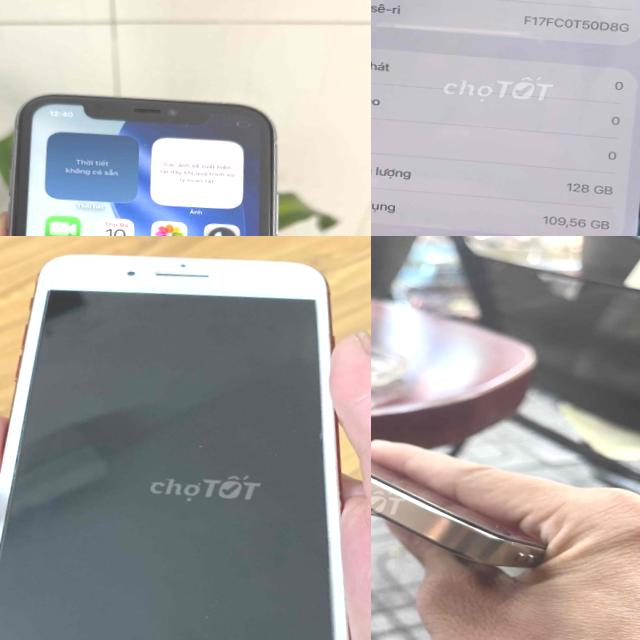gen_11: (0, 76, 307, 236)
gen_12_13: (371, 0, 640, 236)
gen_15: (371, 395, 572, 589)
gen_7_8: (0, 239, 371, 640)
